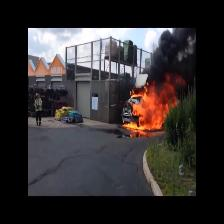fire: (123, 83, 177, 132)
smoke: (143, 28, 196, 83)
